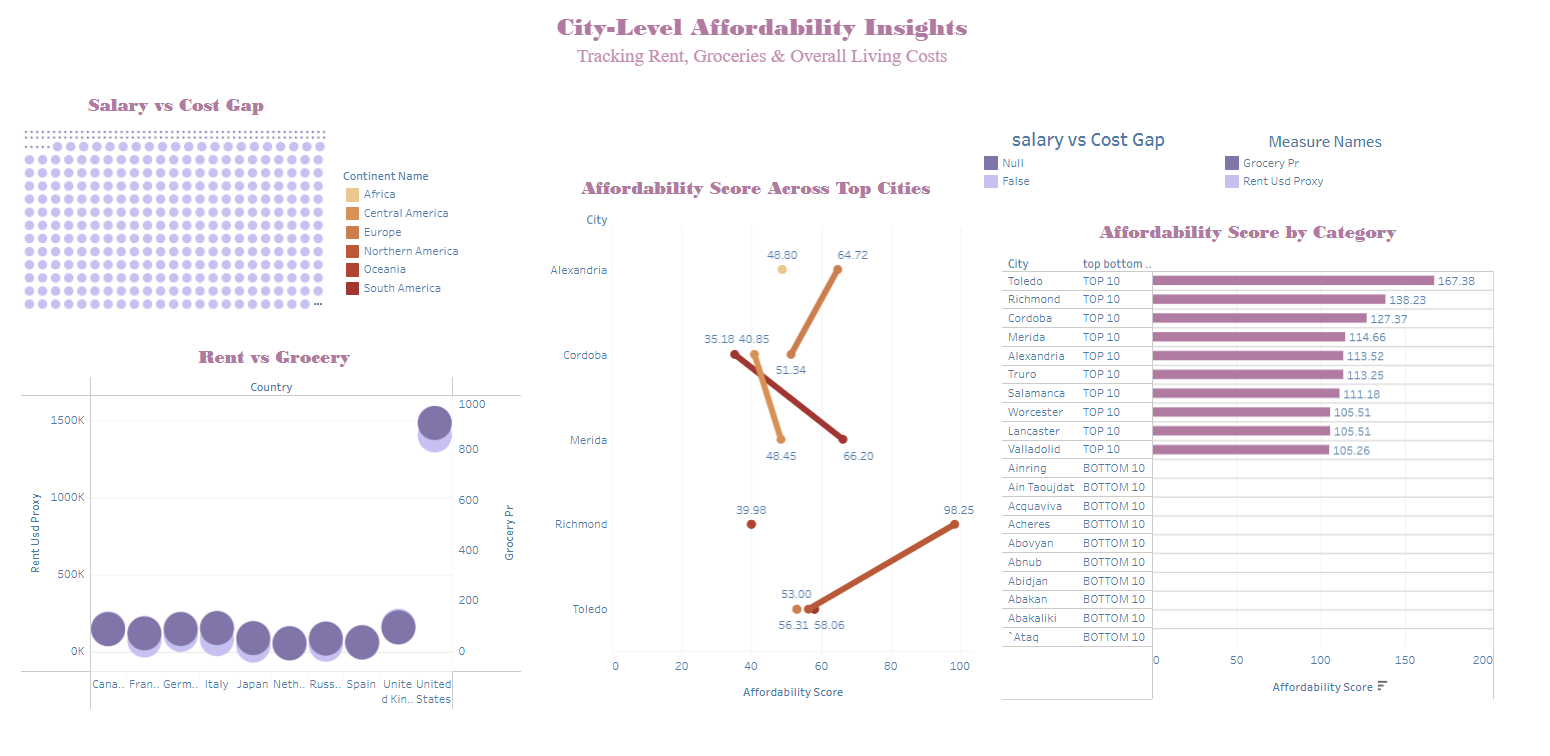

What the dashboard file says about the page in this screenshot:
{"tool":"tableau","page":{"name":"City-Level Affordability Insights","canvas":[1600,900],"ordinal":0},"visuals":[{"type":"worksheet","title":"salary vs cost ","mark":"Circle","box":[21,129,408,247]},{"type":"legend","title":"salary vs cost ","param":"[federated.01ods2h1wf629m1bzxo0s10bfq2g].[none:Calculation_498210749954224130:nk","box":[1048,171,228,91]},{"type":"legend","title":"rent vs grocery ","param":"[federated.01ods2h1wf629m1bzxo0s10bfq2g].[:Measure Names]","box":[1305,175,219,76]},{"type":"legend","title":"Affordability Score Across Top Cities","param":"[federated.01ods2h1wf629m1bzxo0s10bfq2g].[none:continent_name:nk]","box":[367,214,164,148]},{"type":"worksheet","title":"Affordability Score Across Top Cities","mark":"Line","rows":["city"],"cols":["affordability_score"],"box":[574,218,466,569]},{"type":"worksheet","title":"Affordability Score by Category","mark":"Automatic","rows":["city","Calculation_2257147879744057345"],"cols":["affordability_score"],"box":[1070,265,525,555]},{"type":"worksheet","title":"rent vs grocery ","mark":"Automatic","rows":["rent_usd_proxy","grocery_pr"],"cols":["country"],"box":[23,398,535,394]}]}

Visuals, with their boxes on the page's 1600x900 design canvas (x1, y1, x2, y2). These are canvas units, not pixel positions in the 1550x756 screenshot, which may show the page scaled, cropped or inside an application window:
"salary vs cost " worksheet (Circle marks): [x1=21, y1=129, x2=429, y2=376]
"salary vs cost " legend: [x1=1048, y1=171, x2=1276, y2=262]
"rent vs grocery " legend: [x1=1305, y1=175, x2=1524, y2=251]
"Affordability Score Across Top Cities" legend: [x1=367, y1=214, x2=531, y2=362]
"Affordability Score Across Top Cities" worksheet (Line marks): [x1=574, y1=218, x2=1040, y2=787]
"Affordability Score by Category" worksheet: [x1=1070, y1=265, x2=1595, y2=820]
"rent vs grocery " worksheet: [x1=23, y1=398, x2=558, y2=792]
